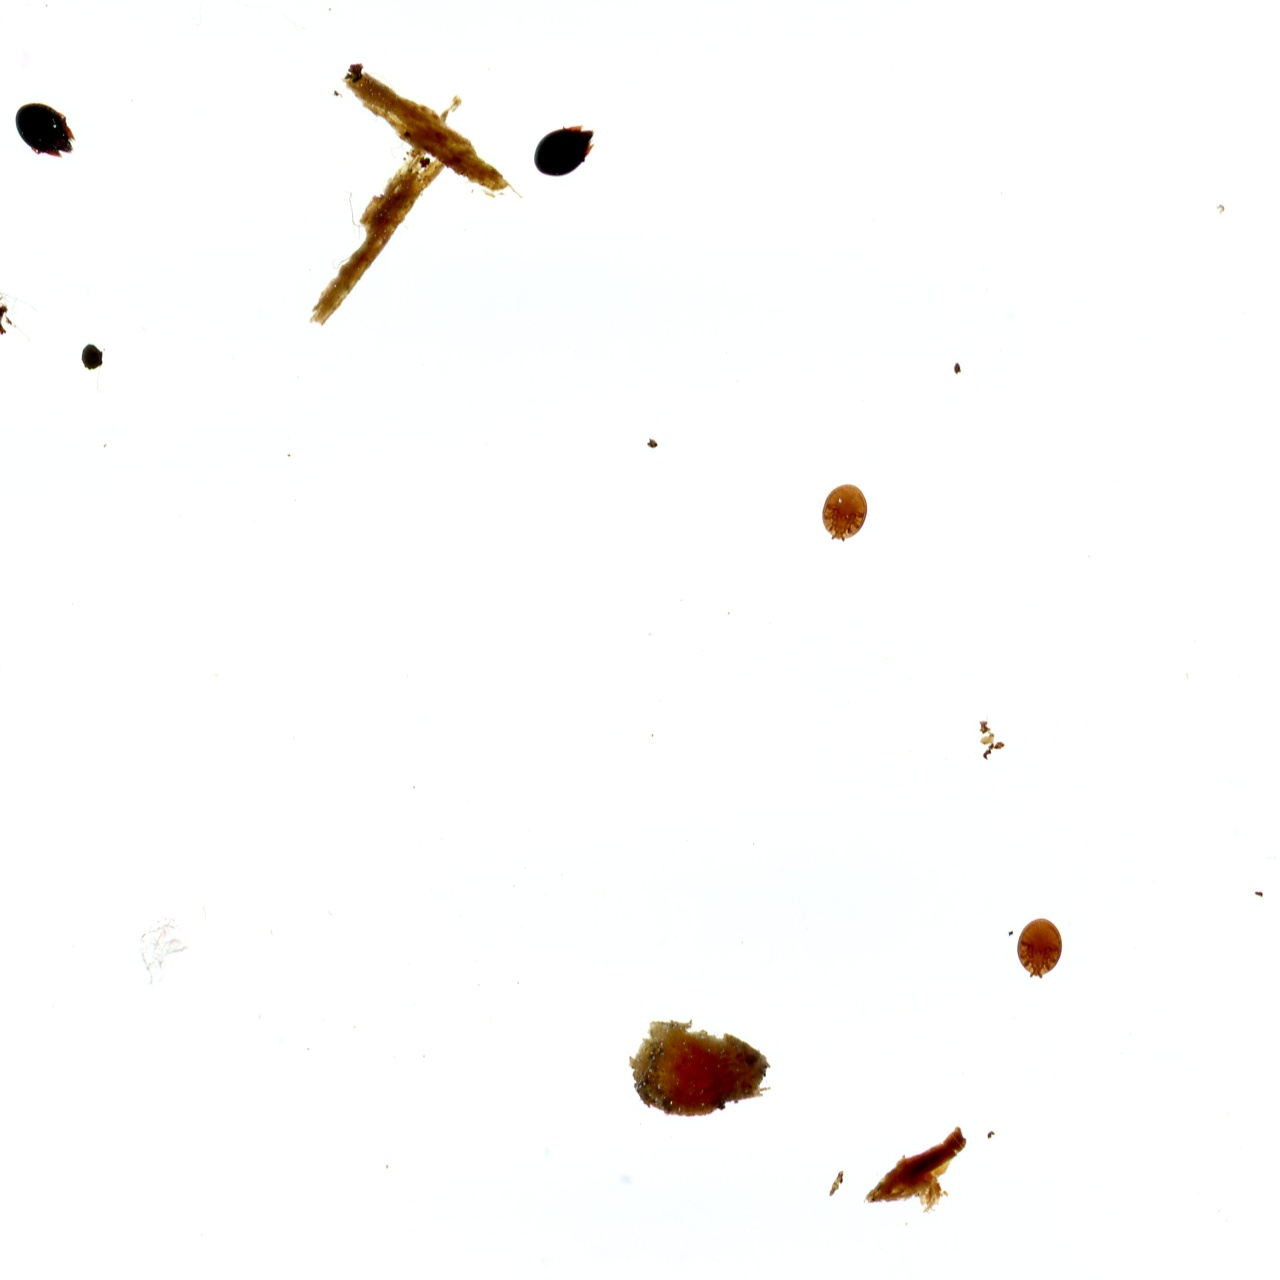arthropod: (12, 98, 79, 162), (531, 122, 599, 181), (1012, 912, 1065, 985), (821, 482, 872, 545)
